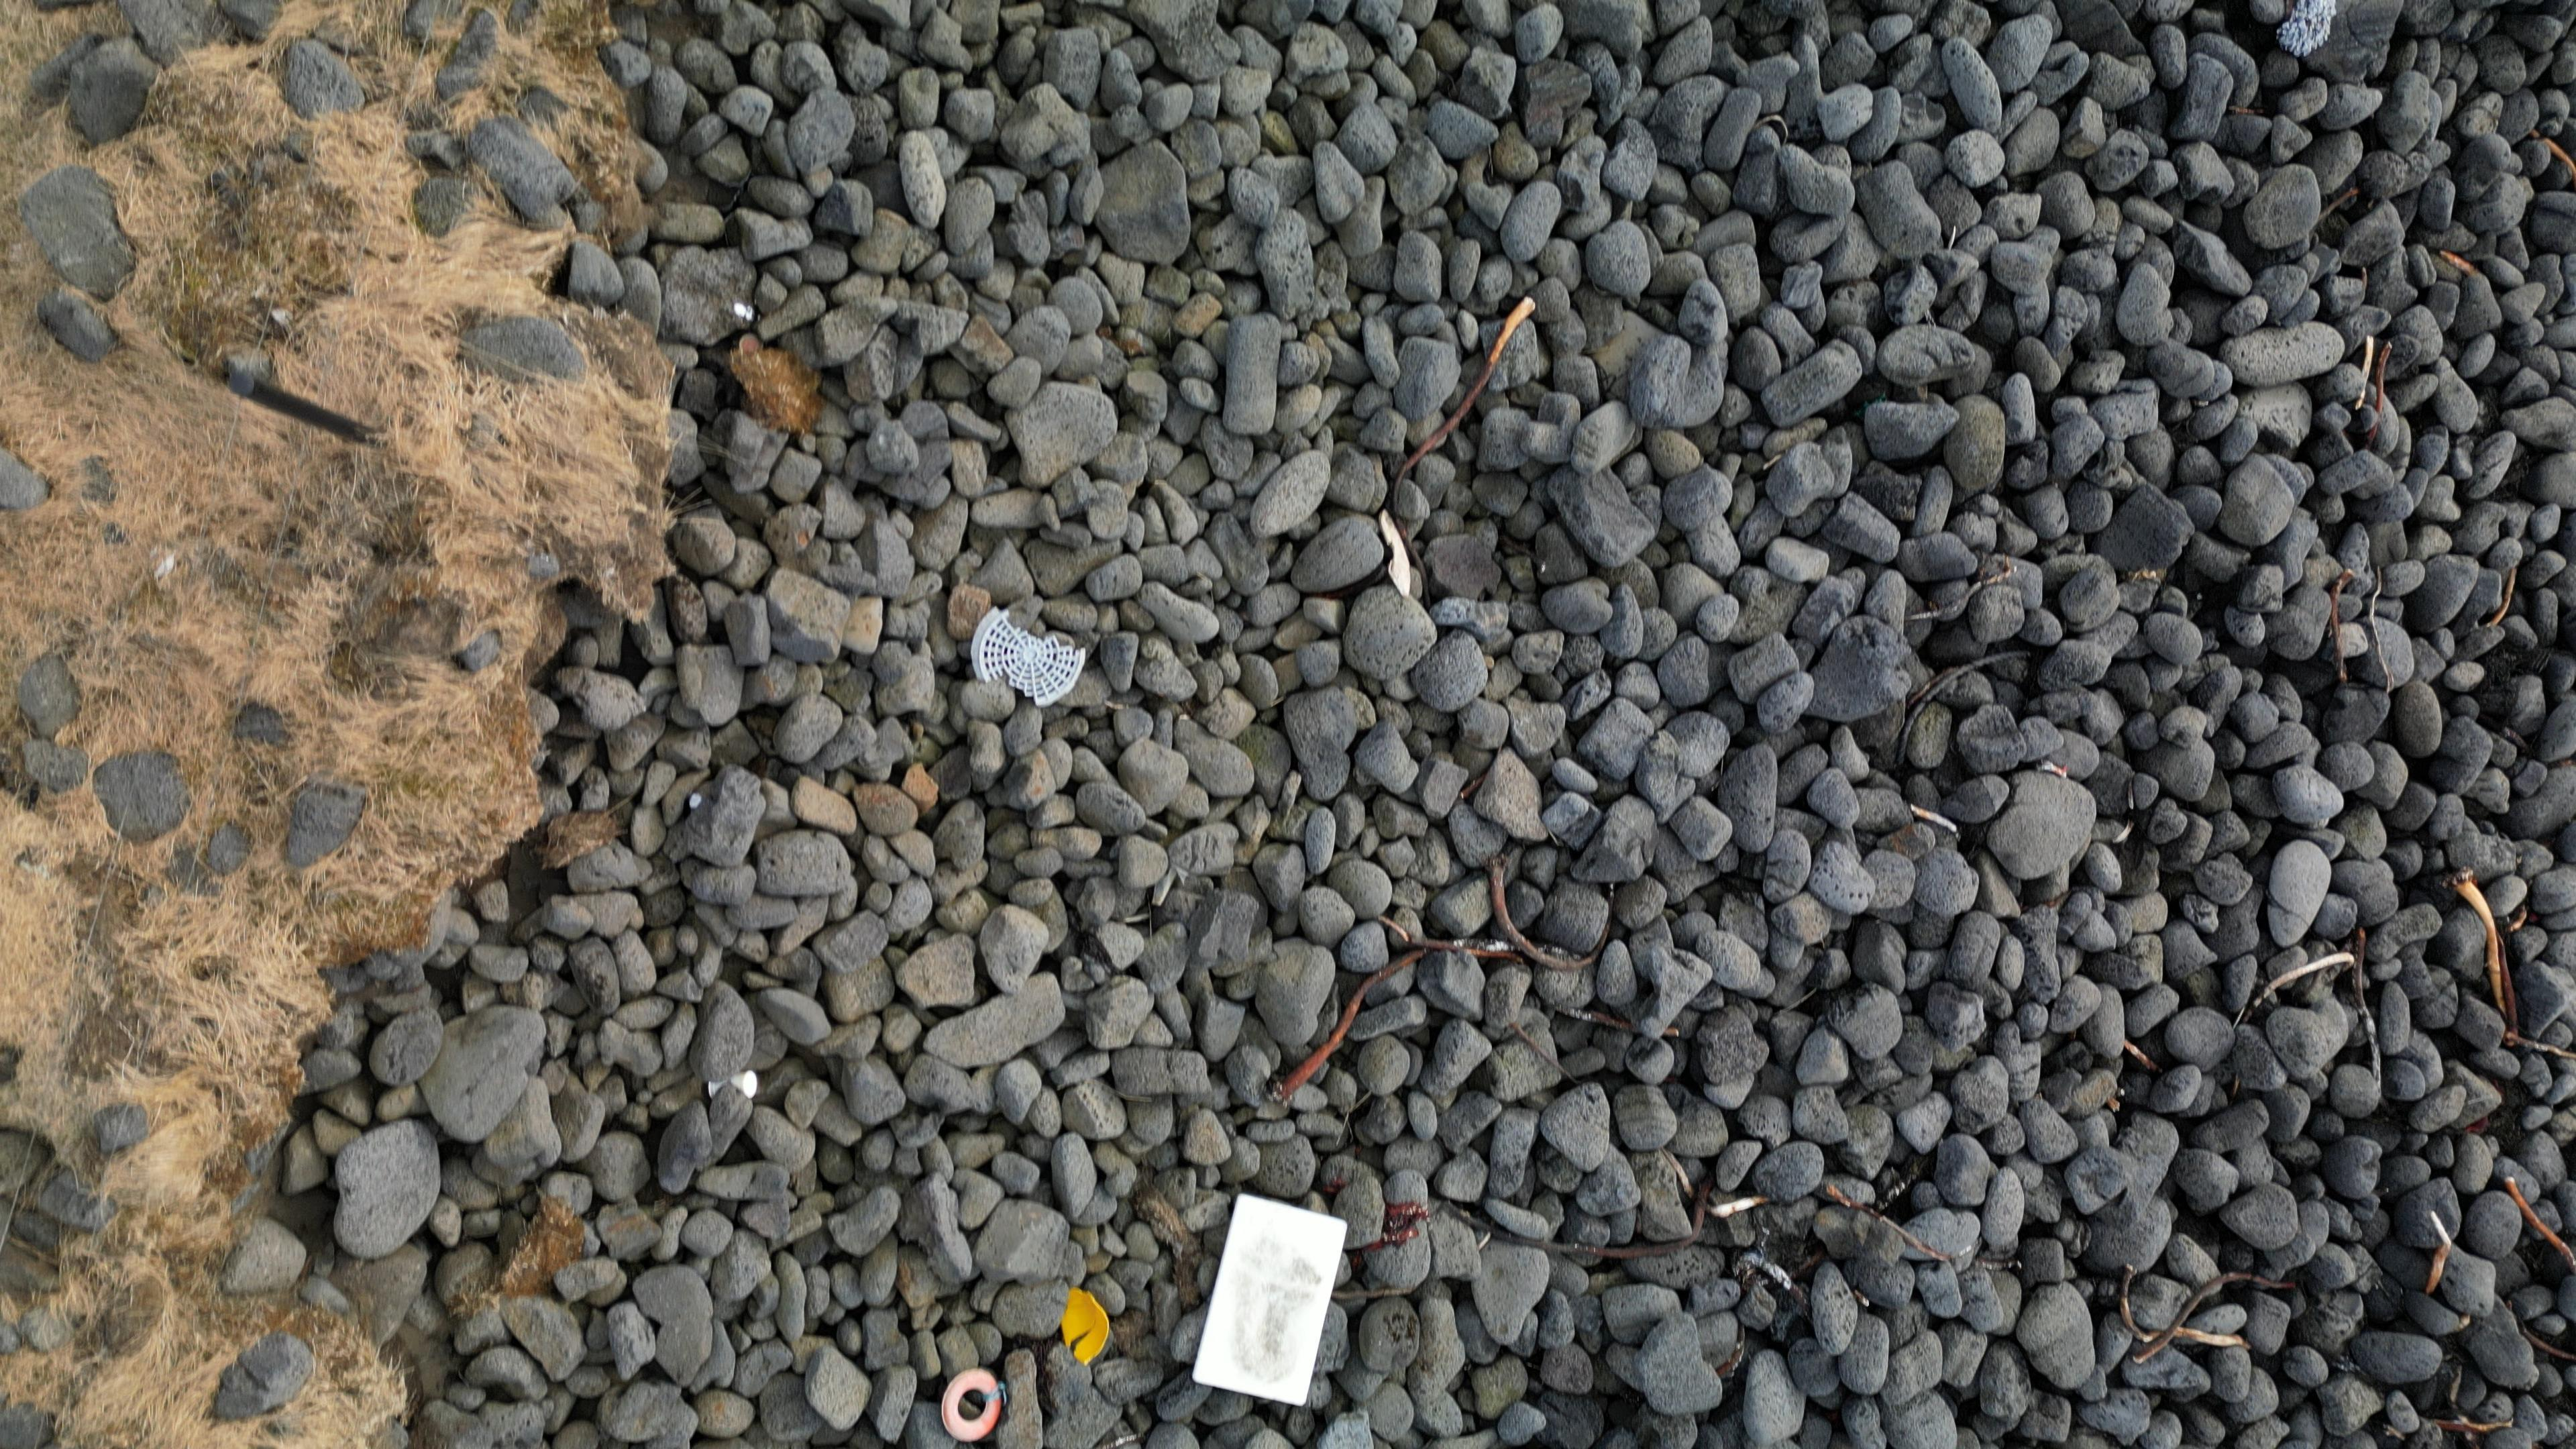trash: (1192, 1198, 1348, 1408), (971, 609, 1086, 704), (941, 1369, 1001, 1444), (1062, 1288, 1111, 1364), (1378, 508, 1414, 598), (729, 1072, 759, 1097), (709, 1081, 720, 1097)
